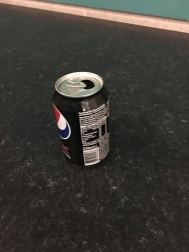can_black: (52, 66, 120, 170)
